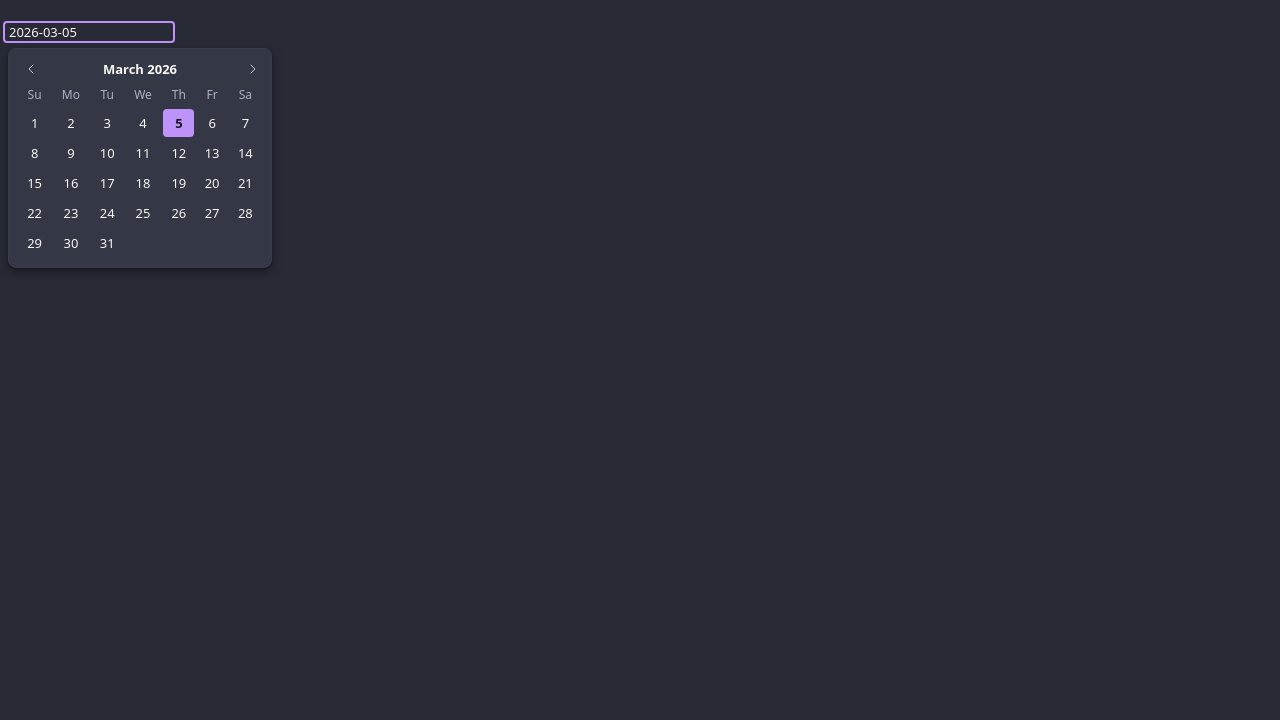
it: the text box drives the calendar: a typed date shows its month
The width and height of the screenshot is (1280, 720).
Replace the text in the text box named "Cell value" with "2027-01-20": (89, 32) x1=3 y1=21 x2=175 y2=43
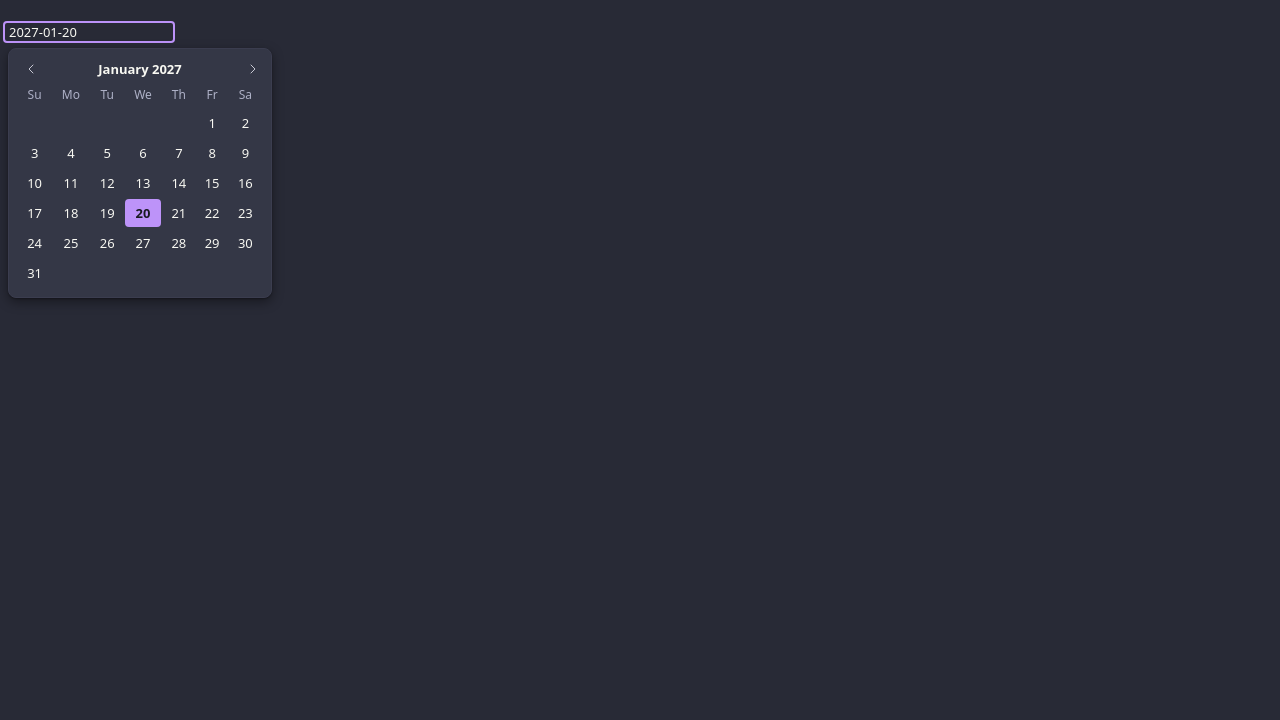
Now the table named "January 2027" is shown, box x1=17 y1=81 x2=263 y2=289
